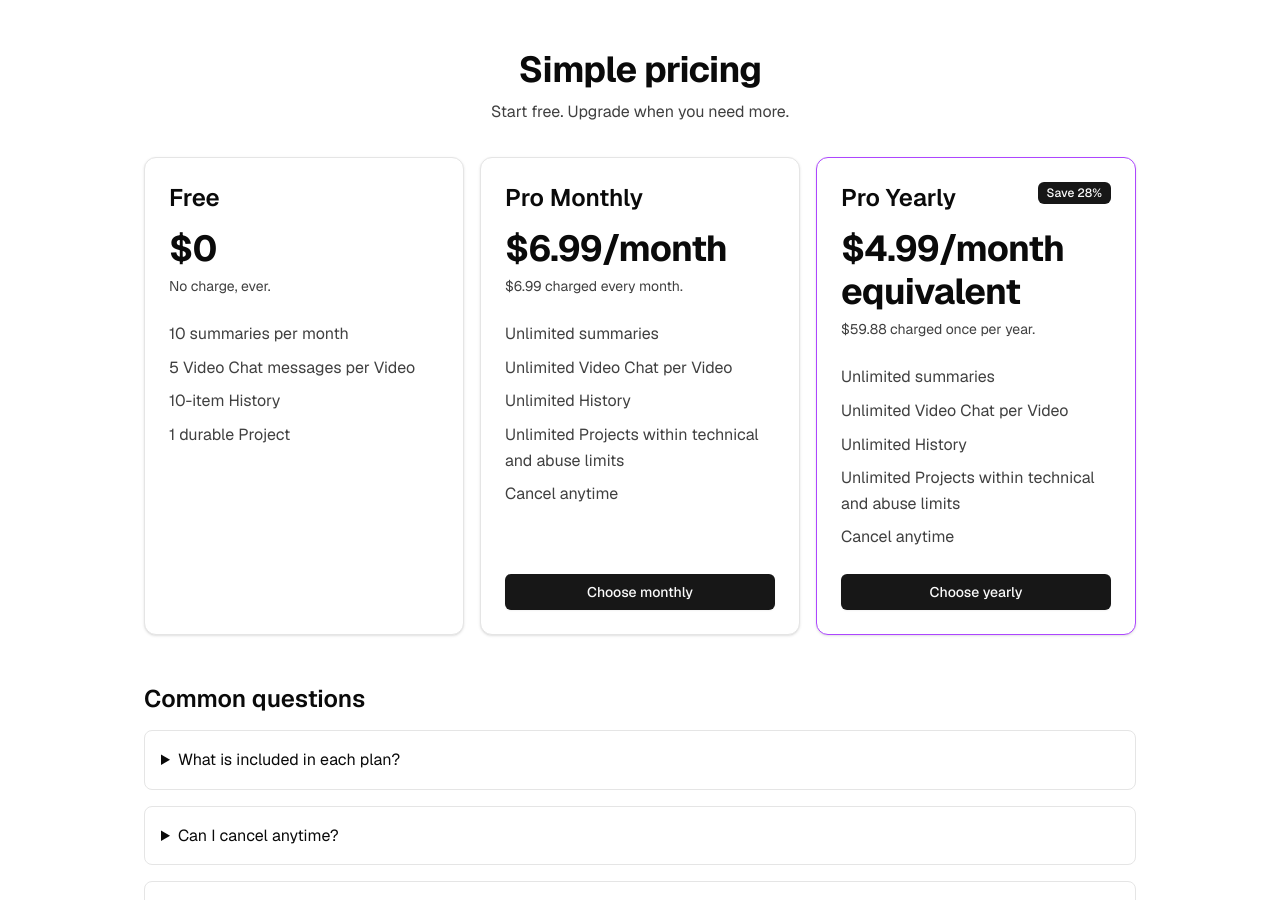
Test: PricingPage › renders an actionable ineligible subscription failure and never starts checkout
Click the button "Choose monthly" at (640, 592), box [505,574,775,610]
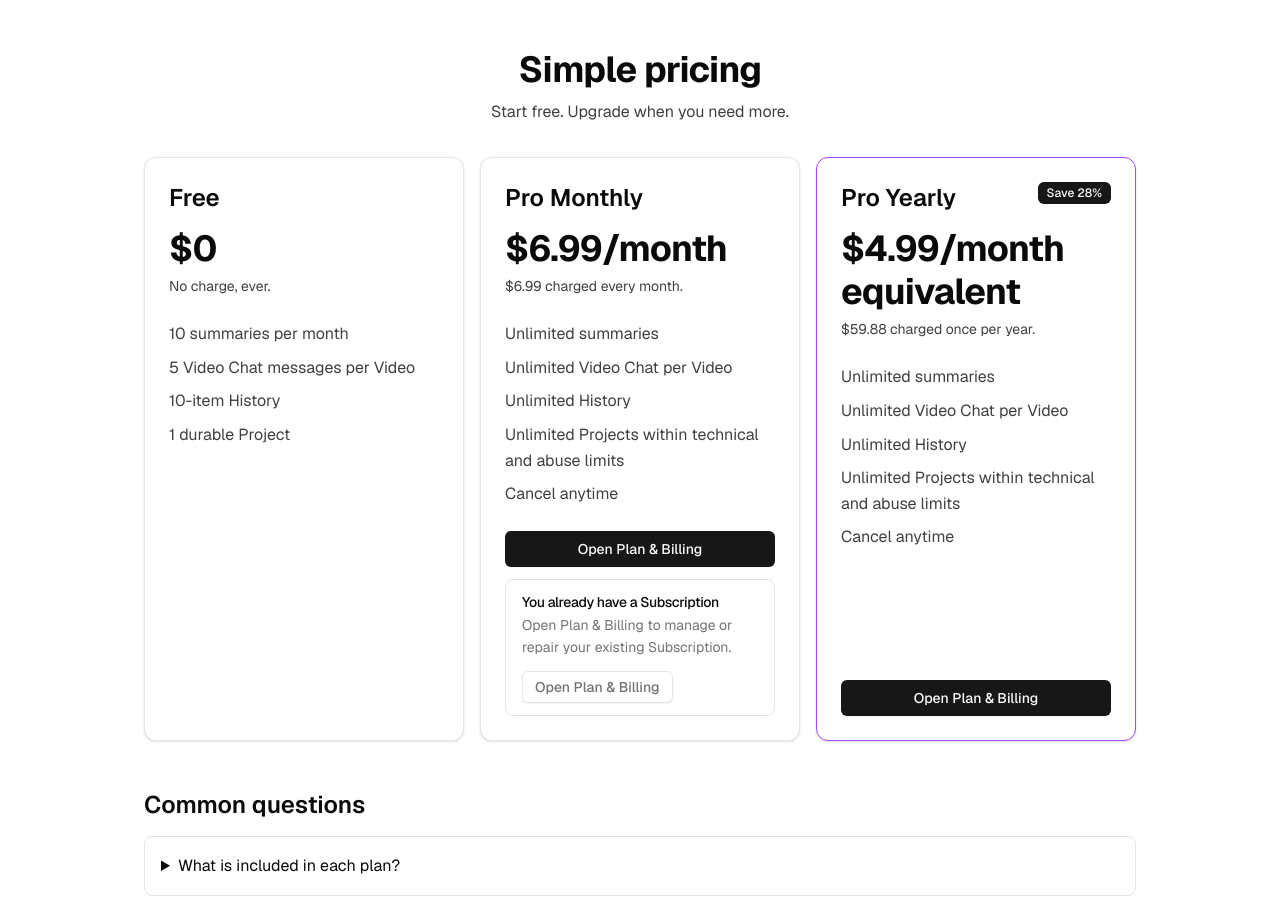
Result: the message shows "already have a Subscription" at [522,593,719,611]
Result: the 1st button "Open Plan & Billing" is shown at [505,531,775,567]
